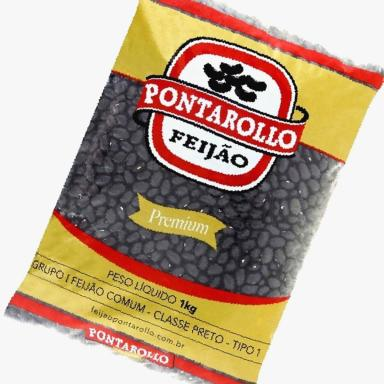beans package: (8, 0, 382, 382)
